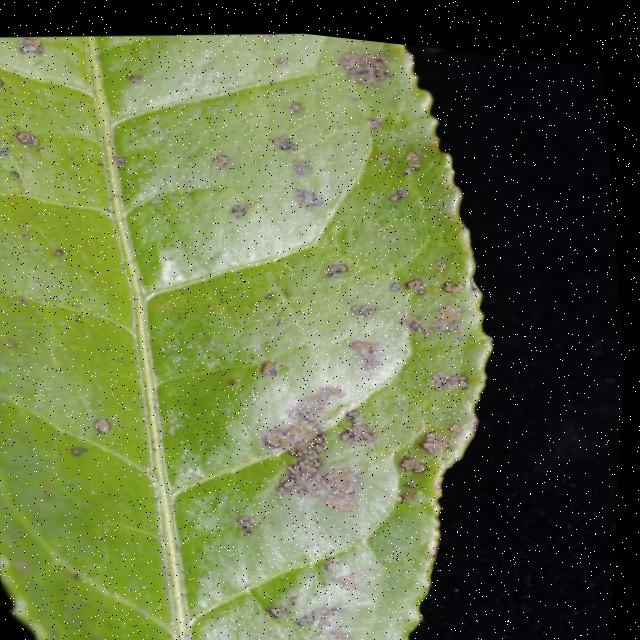Tea red rust: (0, 0, 528, 640)
